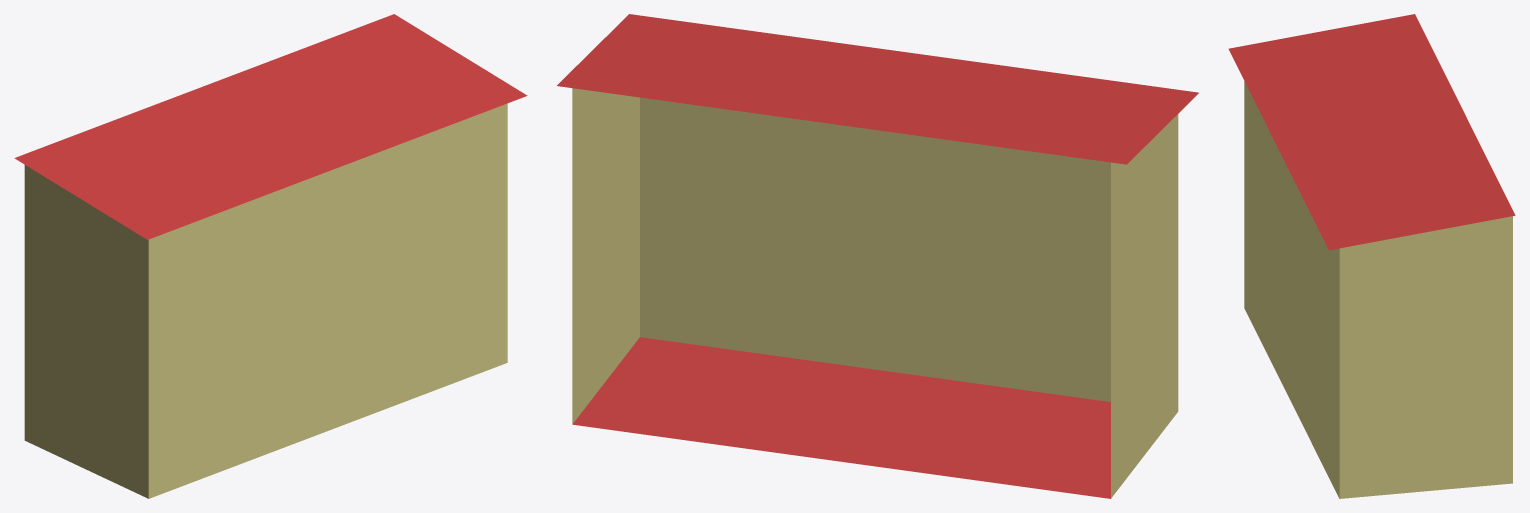
The picture shows the model from 3 angles, left to right: view 1: azimuth 30°, elevation 25°; view 2: azimuth 150°, elevation 25°; view 3: azimuth 270°, elevation 25°; orthographic projection. The views are drawn at different scales.
Bounding box in the file's own units: 9.49 × 5.28 × 5.55.
